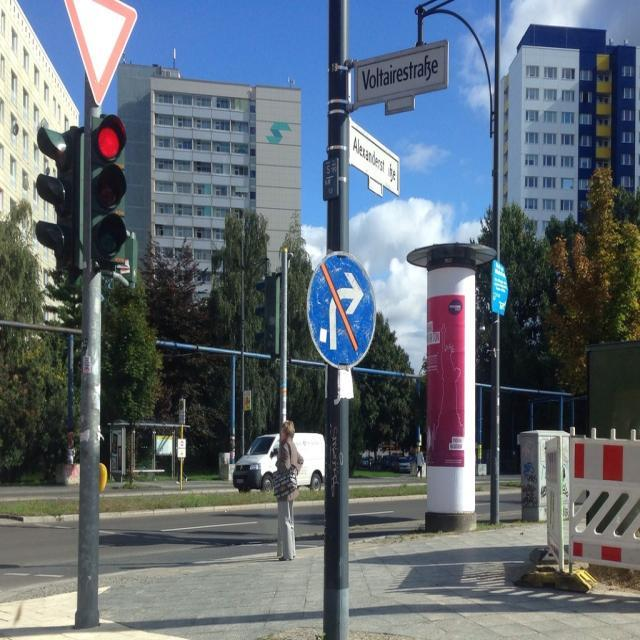obstructed_road_sign: (65, 0, 140, 107)
off traffic light: (31, 128, 82, 268)
road_sign: (304, 253, 379, 371)
traffic light: (90, 118, 126, 267)
